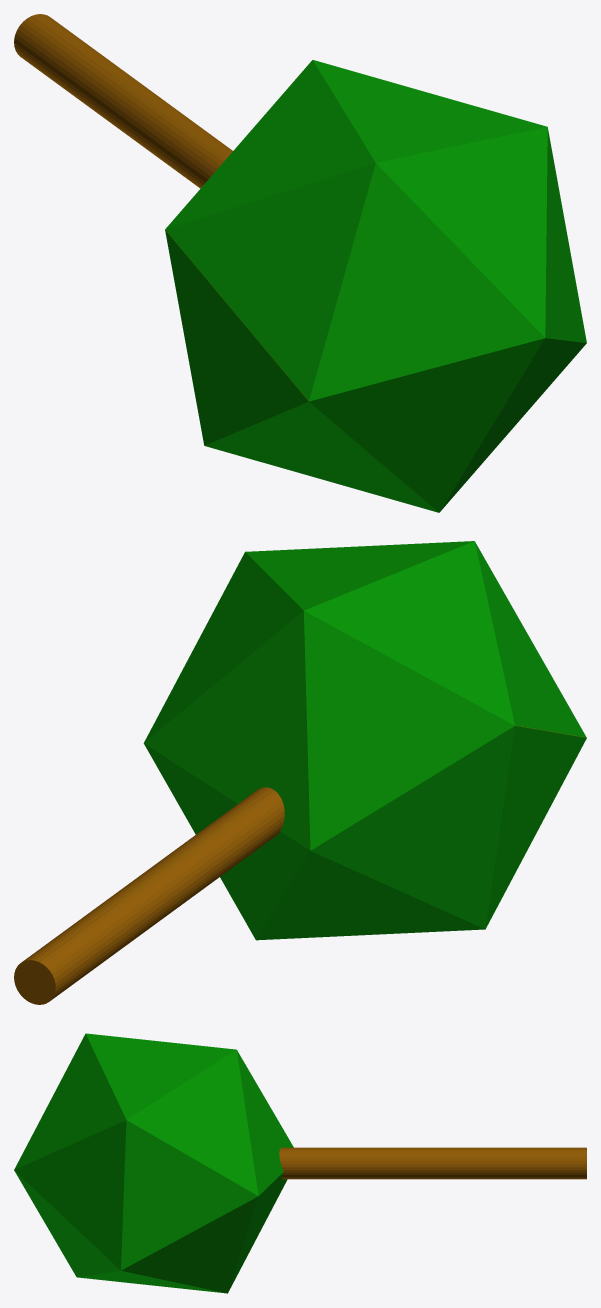
The model's file is tree.obj.
3 views of the same model, one above another, from view 1: azimuth 30°, elevation 25°; view 2: azimuth 150°, elevation 25°; view 3: azimuth 270°, elevation 25° (orthographic). The views are drawn at different scales.
Parts seen in each view (by area): view 1: Icosphere, Cylinder; view 2: Icosphere, Cylinder; view 3: Icosphere, Cylinder.
Part boxes in pixels (x1,y1,x2,y2): Icosphere: [165, 60, 586, 512]; Cylinder: [14, 14, 232, 188]; Icosphere: [143, 541, 586, 940]; Cylinder: [14, 787, 284, 1004]; Icosphere: [14, 1033, 293, 1293]; Cylinder: [279, 1147, 586, 1179].
Bounding box in the file's own units: 0.9508 × 0.8966 × 2.04.
